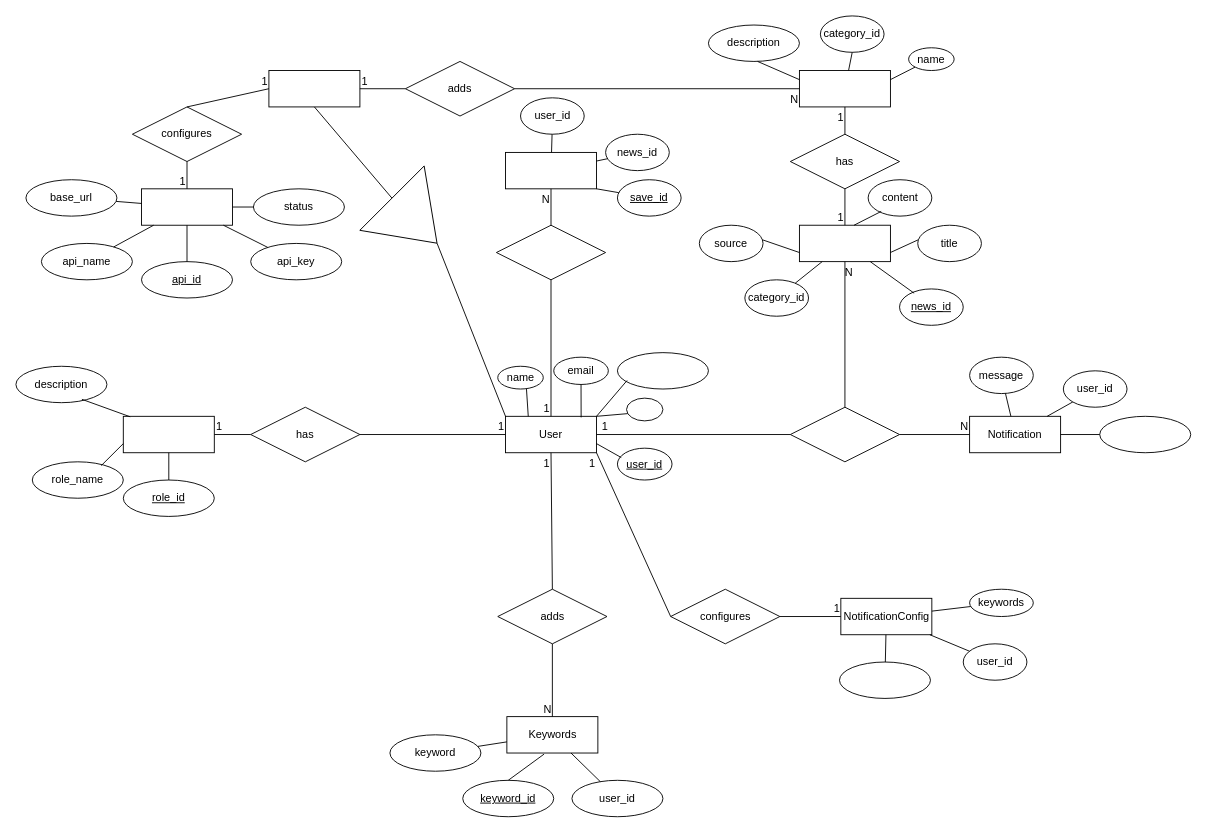
This 1207x833 diagram has some shape labels left out. The centre of each missing label's shape, as x and y in pixels:
"Admin" goes at [314,88].
"config_id" goes at [884,679].
"ExternalAPIs Configs" goes at [187,206].
"IsA" goes at [414,220].
"News" goes at [844,243].
"NewsCategory" goes at [844,88].
"notification_id" goes at [1145,434].
"password_hash" goes at [662,370].
"role" goes at [644,409].
"Roles" goes at [168,434].
"SavedArticles" goes at [551,170].
"saves" goes at [550,252].
"views" goes at [844,434].
